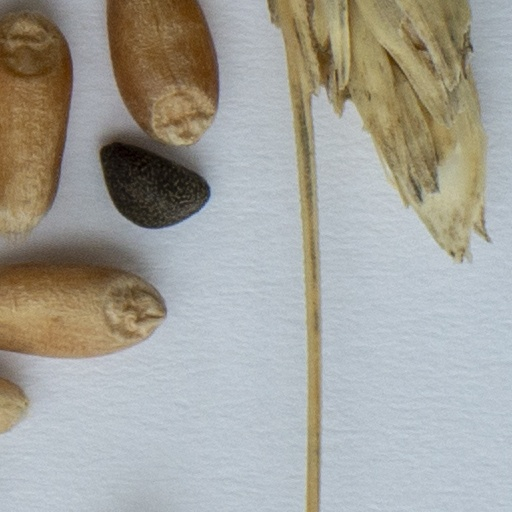Peel-poly: (260, 0, 492, 511)
